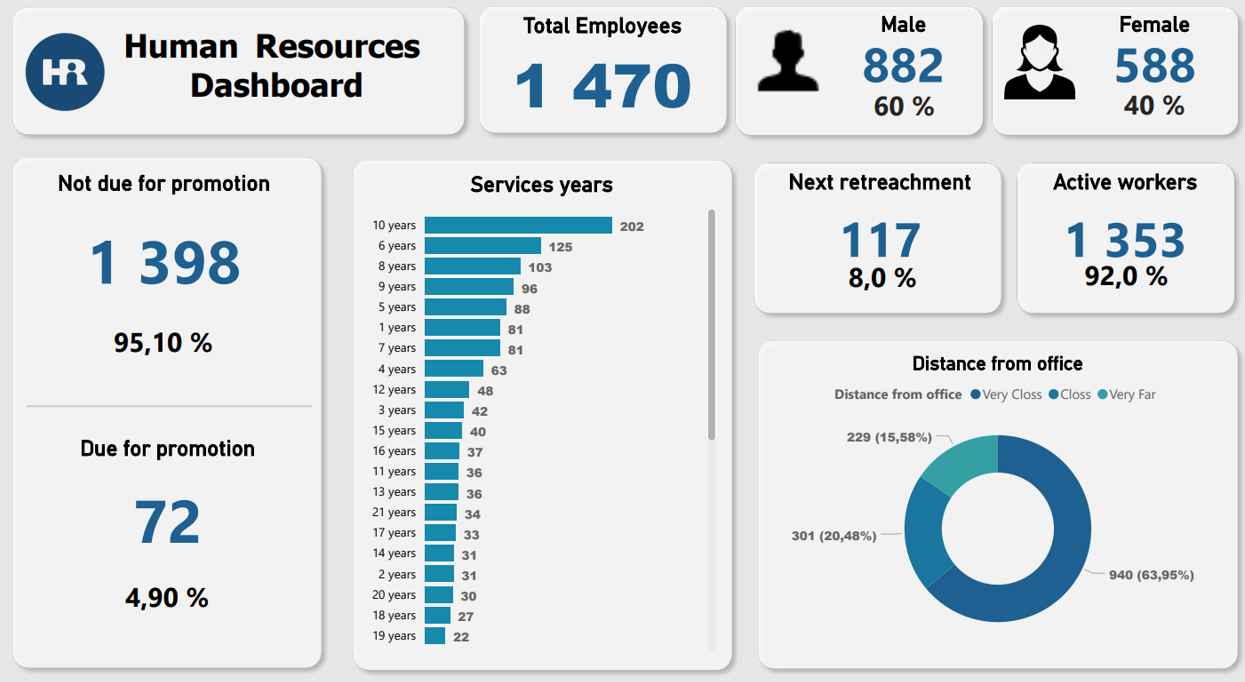

This screenshot's page, from the dashboard's own definition file:
{"tool":"powerbi","page":{"name":"H-R","canvas":[1280,720],"ordinal":0},"visuals":[{"type":"shape","box":[10.7,6,468.9,144],"z":0},{"type":"textbox","box":[86.9,27.4,392.7,105.9],"z":1000},{"type":"shape","box":[10.7,155.9,326.1,527.2],"z":1000,"group":"g6"},{"type":"shape","box":[755.5,338.3,496.3,345],"z":1000,"group":"g8"},{"type":"shape","box":[477,4.8,264.2,144],"z":2000,"group":"g3"},{"type":"shape","box":[37.5,41.2,65,67.5],"z":2000},{"type":"shape","box":[351.3,158.3,396.3,526.5],"z":2000,"group":"g4"},{"type":"shape","box":[1015.1,160.7,234.6,167.8],"z":2000,"group":"g7"},{"type":"shape","box":[733.5,5,264.3,145.5],"z":3000,"group":"g2"},{"type":"shape","box":[752.1,160.7,264.2,167.8],"z":3000,"group":"g5"},{"type":"group","id":"g1","title":"Groupe 1","box":[990.3,5,263.8,145.6],"z":4000},{"type":"shape","box":[990.3,5,263.8,145.4],"z":4000,"group":"g1"},{"type":"group","id":"g2","title":"Groupe 2","box":[733.5,5,264.2,145.2],"z":5000},{"type":"card","title":"Active workers","fields":{"Values":["All Measures.On service"]},"box":[1009.2,175.8,246.3,111.2],"z":5000,"group":"g7"},{"type":"group","id":"g3","title":"Groupe 3","box":[477,4.8,264.2,144],"z":6000},{"type":"card","fields":{"Values":["All Measures.% Active workers"]},"box":[1040.4,261.9,186.2,41.2],"z":6000,"group":"g7"},{"type":"group","id":"g4","title":"Groupe 4","box":[351.3,158.3,396.3,526.5],"z":7000},{"type":"donutChart","title":"Distance from office","fields":{"Category":["HR Analytics Data.Distance from office"],"Y":["All Measures.Total Emp"]},"box":[745.8,358.5,516.7,302.3],"z":7000,"group":"g8"},{"type":"group","id":"g5","title":"Groupe 5","box":[752.1,160.7,264.2,167.8],"z":8000},{"type":"group","id":"g6","title":"Groupe 6","box":[10.7,155.9,326.1,527.2],"z":9000},{"type":"card","title":"Next retreachment","fields":{"Values":["All Measures.Due for retirment"]},"box":[762.1,175.7,248.8,111.2],"z":9000,"group":"g5"},{"type":"card","title":"Not due for promotion","fields":{"Values":["All Measures.Not Due"]},"box":[19,177.8,302.3,150.2],"z":9000,"group":"g6"},{"type":"group","id":"g7","title":"Groupe 7","box":[1009.2,160.7,246.3,167.8],"z":10000},{"type":"card","fields":{"Values":["All Measures.%Due for retirment"]},"box":[789.6,263.2,198.8,41.2],"z":10000,"group":"g5"},{"type":"card","title":"Due for promotion","fields":{"Values":["All Measures.Due for promotion"]},"box":[22.6,442.7,302.3,138],"z":10000,"group":"g6"},{"type":"group","id":"g8","title":"Groupe 8","box":[745.8,338.3,516.7,345],"z":11000},{"type":"shape","box":[33.3,399.9,285.6,26.2],"z":11000,"group":"g6"},{"type":"card","fields":{"Values":["All Measures.% Not due for promotion"]},"box":[92.8,318.4,153.5,61.5],"z":12000,"group":"g6"},{"type":"card","fields":{"Values":["All Measures.% Due for promotion"]},"box":[98.8,573.6,151.1,60.7],"z":13000,"group":"g6"},{"type":"barChart","title":"Services years","fields":{"Category":["HR Analytics Data.Total working Years"],"Y":["All Measures.Total Emp"]},"box":[370.1,178.3,357.5,485],"z":14000,"group":"g4"},{"type":"card","title":"Total Employees","fields":{"Values":["All Measures.Total Emp"]},"box":[485.3,20.3,246.3,113.1],"z":15000,"group":"g3"},{"type":"card","title":"Male","fields":{"Values":["All Measures.Male"]},"box":[824.3,19,170.7,77],"z":16000,"group":"g2"},{"type":"card","fields":{"Values":["All Measures.Male %"]},"box":[844.2,84.9,132.1,55.7],"z":17000,"group":"g2"},{"type":"card","title":"Female","fields":{"Values":["All Measures.Female"]},"box":[1070.7,19,182.7,76.9],"z":18000,"group":"g1"},{"type":"card","fields":{"Values":["All Measures.Female %"]},"box":[1085.8,84.7,152.5,54.5],"z":19000,"group":"g1"},{"type":"image","box":[745.9,19,95,92.4],"z":20000,"group":"g2"},{"type":"image","box":[1006.8,26,79.7,85.3],"z":22000,"group":"g1"}]}

Visuals, with their boxes in screenshot pixels (x1, y1, x2, y2), scaled from the page's 1280x720 canvas onto the 1245x682 screenshot:
shape: box=[10, 6, 466, 142]
textbox: box=[85, 26, 466, 126]
shape: box=[10, 148, 328, 647]
shape: box=[735, 320, 1218, 647]
shape: box=[464, 5, 721, 141]
shape: box=[36, 39, 100, 103]
shape: box=[342, 150, 727, 649]
shape: box=[987, 152, 1216, 311]
shape: box=[713, 5, 971, 143]
shape: box=[732, 152, 989, 311]
"Groupe 1" group: box=[963, 5, 1220, 143]
shape: box=[963, 5, 1220, 142]
"Groupe 2" group: box=[713, 5, 970, 142]
"Active workers" card: box=[982, 167, 1221, 272]
"Groupe 3" group: box=[464, 5, 721, 141]
card - All Measures.% Active workers: box=[1012, 248, 1193, 287]
"Groupe 4" group: box=[342, 150, 727, 649]
"Distance from office" donutChart: box=[725, 340, 1228, 626]
"Groupe 5" group: box=[732, 152, 989, 311]
"Groupe 6" group: box=[10, 148, 328, 647]
"Next retreachment" card: box=[741, 166, 983, 272]
"Not due for promotion" card: box=[18, 168, 313, 311]
"Groupe 7" group: box=[982, 152, 1221, 311]
card - All Measures.%Due for retirment: box=[768, 249, 961, 288]
"Due for promotion" card: box=[22, 419, 316, 550]
"Groupe 8" group: box=[725, 320, 1228, 647]
shape: box=[32, 379, 310, 404]
card - All Measures.% Not due for promotion: box=[90, 302, 240, 360]
card - All Measures.% Due for promotion: box=[96, 543, 243, 601]
"Services years" barChart: box=[360, 169, 708, 628]
"Total Employees" card: box=[472, 19, 712, 126]
"Male" card: box=[802, 18, 968, 91]
card - All Measures.Male %: box=[821, 80, 950, 133]
"Female" card: box=[1041, 18, 1219, 91]
card - All Measures.Female %: box=[1056, 80, 1204, 132]
image: box=[726, 18, 818, 106]
image: box=[979, 25, 1057, 105]
